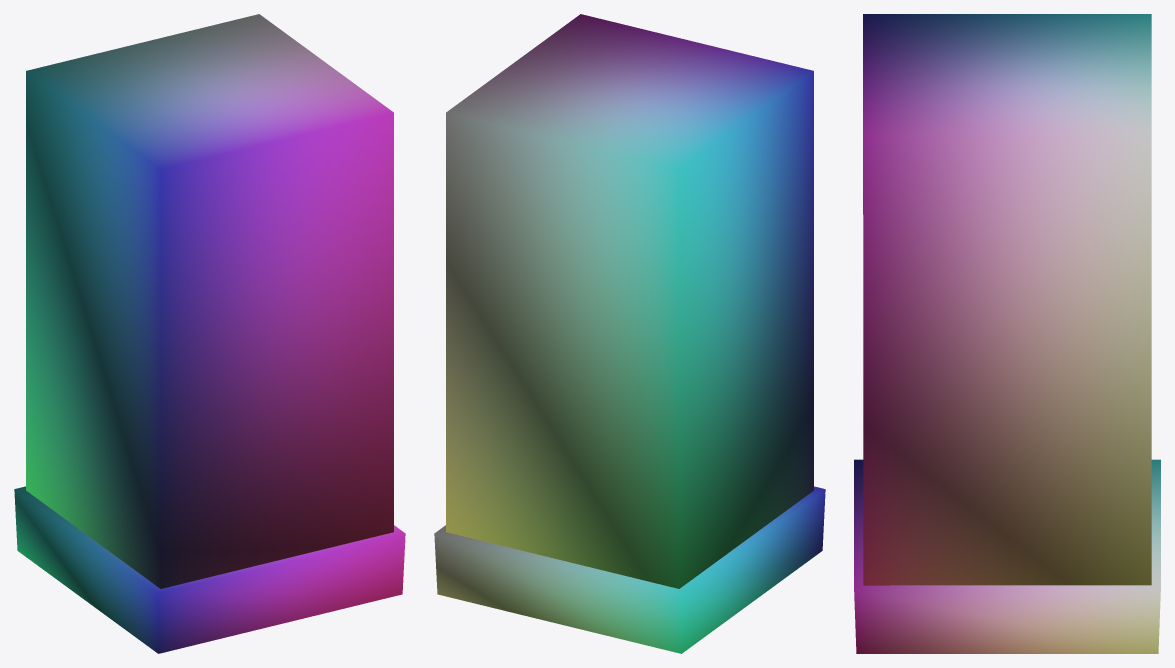
The model's file is SM_Pit_Wall_A.fbx.
3 views of the same model, side by side, from view 1: azimuth 30°, elevation 25°; view 2: azimuth 150°, elevation 25°; view 3: azimuth 270°, elevation 25° (orthographic). The views are drawn at different scales.
Parts seen in each view (by area): view 1: SM_Pit_Wall_A; view 2: SM_Pit_Wall_A; view 3: SM_Pit_Wall_A.
Part boxes in pixels (bbox=[...]): SM_Pit_Wall_A: bbox=[14, 14, 405, 653]; SM_Pit_Wall_A: bbox=[434, 14, 825, 653]; SM_Pit_Wall_A: bbox=[854, 14, 1160, 653].
Size of the model in its own units: 1.08 by 2.02 by 1.08.
